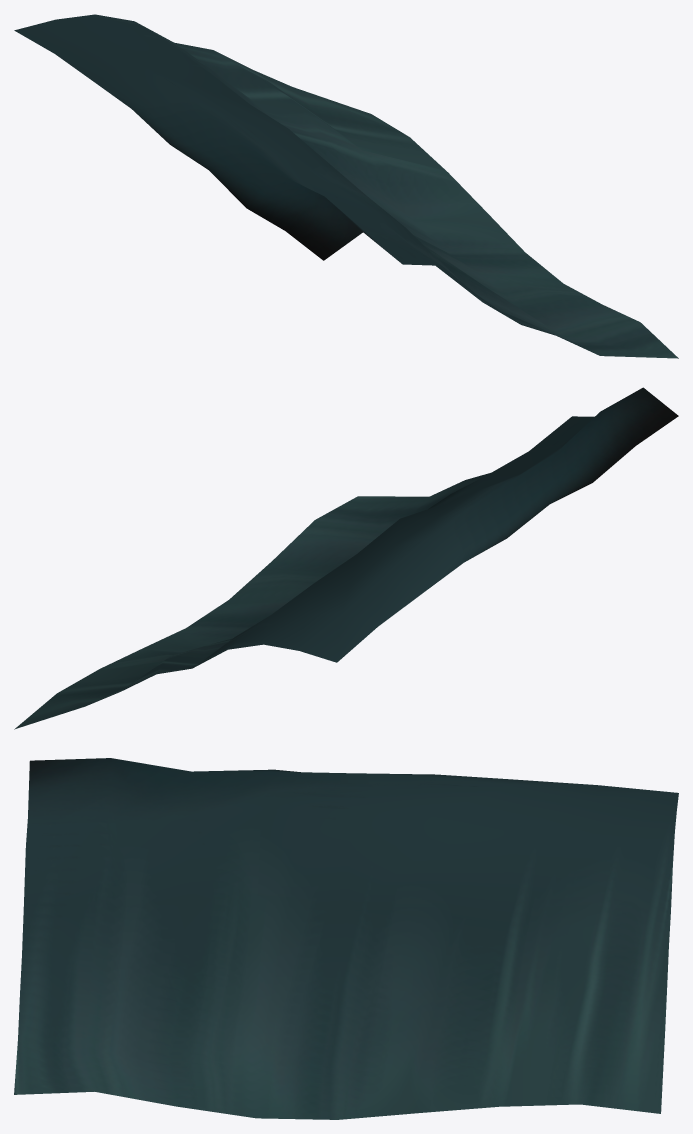
The model's file is Half_Tent_.fbx.
The picture shows the model from 3 angles, top to bottom: view 1: azimuth 30°, elevation 25°; view 2: azimuth 150°, elevation 25°; view 3: azimuth 270°, elevation 25°; orthographic projection. The views are drawn at different scales.
Visible parts, largest first — view 1: Tent06; view 2: Tent06; view 3: Tent06.
Boxes of the visible parts, left/top/right/bottom form: Tent06: left=14, top=14, right=678, bottom=358; Tent06: left=14, top=387, right=678, bottom=729; Tent06: left=14, top=758, right=678, bottom=1119.
Size of the model in its own units: 1083 by 608 by 1729.
